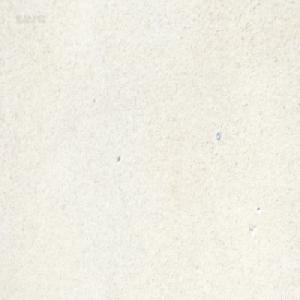Washer: (215, 130, 220, 140)
